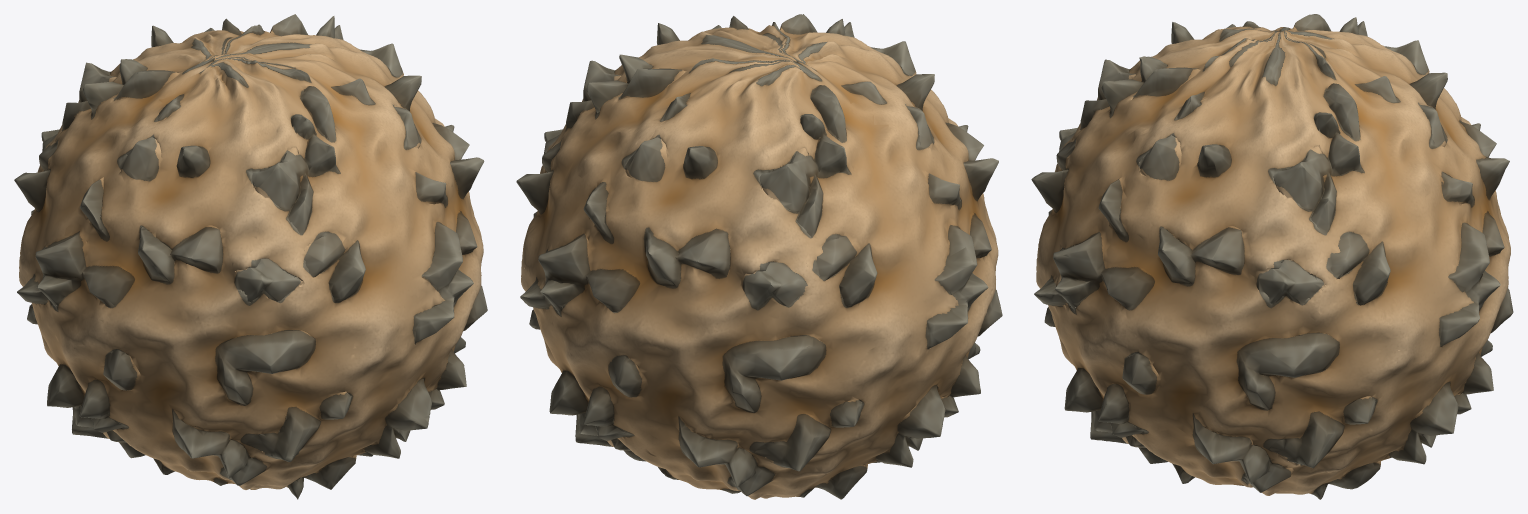
File: mat-sand-procedural.glb
3 views of the same model, side by side, from view 1: azimuth 30°, elevation 25°; view 2: azimuth 150°, elevation 25°; view 3: azimuth 270°, elevation 25° (orthographic). The views are drawn at different scales.
Parts seen in each view (by area): view 1: Sphere_0; view 2: Sphere_0; view 3: Sphere_0.
Boxes of the visible parts, <box> form: Sphere_0: <box>14,14,487,499</box>; Sphere_0: <box>516,14,1002,499</box>; Sphere_0: <box>1031,14,1513,499</box>.
Bounding box in the file's own units: 2.28 × 2.11 × 2.16.
Materials: 1 (1 with a texture image).
